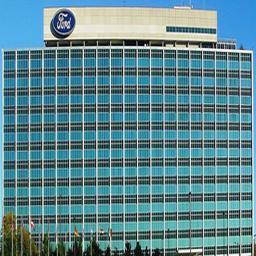building: (3, 6, 256, 256)
